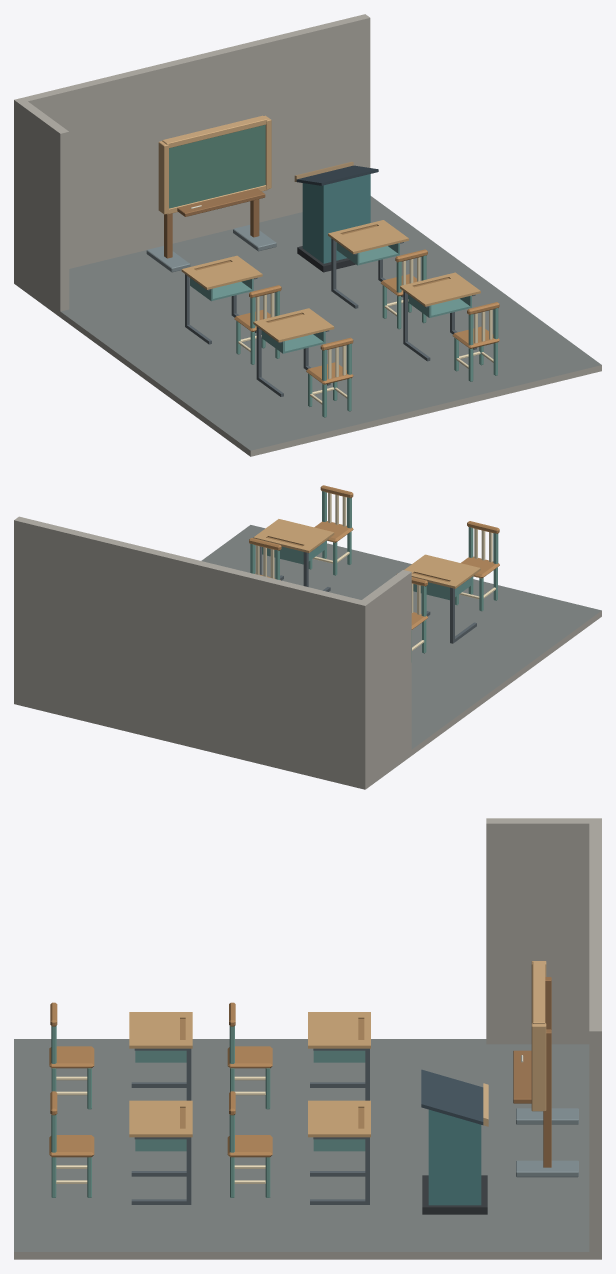
3 views of the same model, one above another, from view 1: azimuth 30°, elevation 25°; view 2: azimuth 150°, elevation 25°; view 3: azimuth 270°, elevation 25° (orthographic). The views are drawn at different scales.
Visible parts, largest first — view 1: SCENE_ONLY__ExhibitionFloorAndWalls, board__education-blackboard-01, lectern__ContinuousThreeSidedLecternShell, chair3__kitchen-dining-chair-01, chair2__kitchen-dining-chair-01, desk2__BlindPencilChannelWorktop, desk0__BlindPencilChannelWorktop, desk3__BlindPencilChannelWorktop, desk1__BlindPencilChannelWorktop, chair1__kitchen-dining-chair-01, chair0__kitchen-dining-chair-01, lectern__SlopedDeskIntegralRetainingLip (+4 smaller); view 2: SCENE_ONLY__ExhibitionFloorAndWalls, chair2__kitchen-dining-chair-01, chair3__kitchen-dining-chair-01, desk3__BlindPencilChannelWorktop, desk2__BlindPencilChannelWorktop, chair1__kitchen-dining-chair-01, chair0__kitchen-dining-chair-01, desk3__FrontOpenBookwell, desk2__FrontOpenBookwell, desk2__LeftContinuousCFrame; view 3: SCENE_ONLY__ExhibitionFloorAndWalls, board__education-blackboard-01, lectern__ContinuousThreeSidedLecternShell, lectern__SlopedDeskIntegralRetainingLip, desk3__BlindPencilChannelWorktop, desk1__BlindPencilChannelWorktop, desk2__BlindPencilChannelWorktop, desk0__BlindPencilChannelWorktop, chair3__kitchen-dining-chair-01, chair1__kitchen-dining-chair-01, chair2__kitchen-dining-chair-01, chair0__kitchen-dining-chair-01 (+7 smaller).
Part boxes in pixels (x1,y1,x2,y2): SCENE_ONLY__ExhibitionFloorAndWalls: (14, 14, 601, 456); board__education-blackboard-01: (146, 115, 276, 272); lectern__ContinuousThreeSidedLecternShell: (302, 174, 370, 263); chair3__kitchen-dining-chair-01: (452, 302, 499, 381); chair2__kitchen-dining-chair-01: (306, 337, 353, 417); desk2__BlindPencilChannelWorktop: (253, 308, 334, 342); desk0__BlindPencilChannelWorktop: (181, 255, 262, 289); desk3__BlindPencilChannelWorktop: (400, 272, 480, 306); desk1__BlindPencilChannelWorktop: (328, 220, 408, 254); chair1__kitchen-dining-chair-01: (381, 249, 427, 329); chair0__kitchen-dining-chair-01: (234, 285, 281, 364); lectern__SlopedDeskIntegralRetainingLip: (294, 161, 378, 185); SCENE_ONLY__ExhibitionFloorAndWalls: (14, 516, 601, 789); chair2__kitchen-dining-chair-01: (455, 521, 499, 611); chair3__kitchen-dining-chair-01: (308, 485, 353, 575); desk3__BlindPencilChannelWorktop: (253, 519, 334, 552); desk2__BlindPencilChannelWorktop: (404, 554, 480, 588); chair1__kitchen-dining-chair-01: (249, 538, 281, 580); chair0__kitchen-dining-chair-01: (396, 573, 427, 662); desk3__FrontOpenBookwell: (262, 541, 325, 564); desk2__FrontOpenBookwell: (413, 577, 471, 600); desk2__LeftContinuousCFrame: (450, 576, 476, 643); SCENE_ONLY__ExhibitionFloorAndWalls: (14, 818, 601, 1259); board__education-blackboard-01: (513, 961, 578, 1177); lectern__ContinuousThreeSidedLecternShell: (428, 1109, 481, 1205); lectern__SlopedDeskIntegralRetainingLip: (421, 1069, 488, 1126); desk3__BlindPencilChannelWorktop: (129, 1100, 192, 1137); desk1__BlindPencilChannelWorktop: (308, 1100, 370, 1137); desk2__BlindPencilChannelWorktop: (129, 1012, 192, 1048); desk0__BlindPencilChannelWorktop: (308, 1012, 370, 1048); chair3__kitchen-dining-chair-01: (49, 1091, 94, 1197); chair1__kitchen-dining-chair-01: (227, 1091, 272, 1197); chair2__kitchen-dining-chair-01: (49, 1002, 94, 1109); chair0__kitchen-dining-chair-01: (227, 1002, 272, 1109).
Size of the model in its own units: 4.8 by 2.4 by 5.6.
